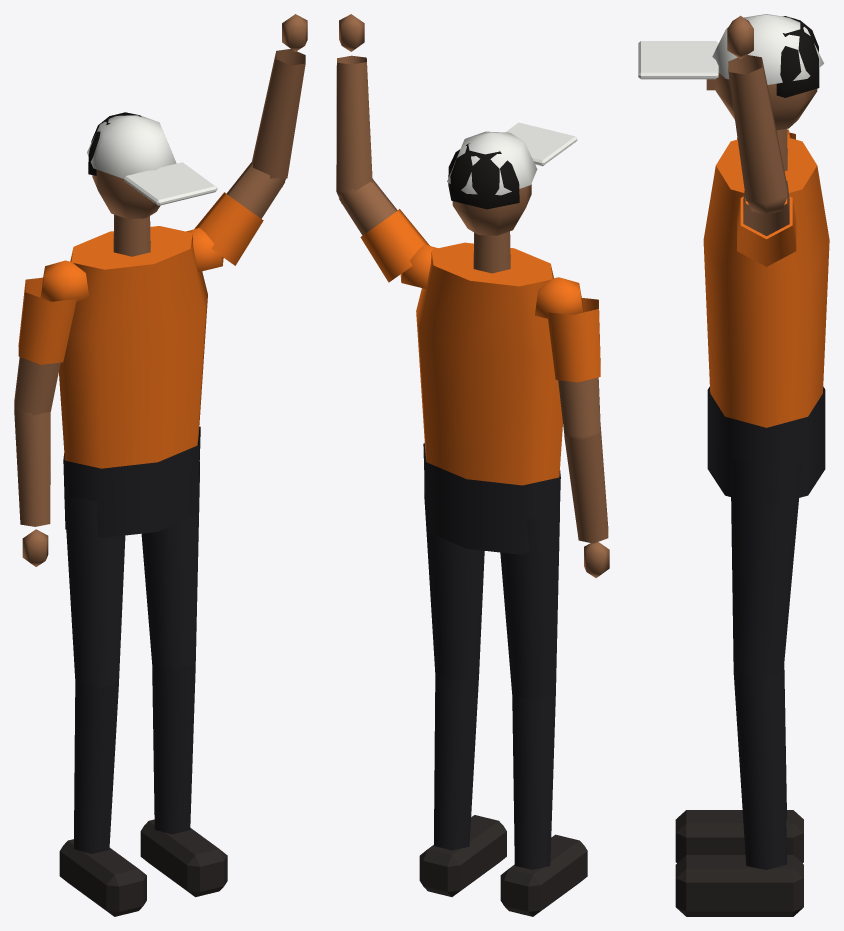
File: fan_g.dae
3 renders of one model, left to right at view 1: azimuth 30°, elevation 25°; view 2: azimuth 150°, elevation 25°; view 3: azimuth 270°, elevation 25°, orthographic. The views are drawn at different scales.
Visible parts, largest first — view 1: marker; view 2: marker; view 3: marker.
Boxes of the visible parts, <box> form: marker: <box>14,14,307,916</box>; marker: <box>336,14,609,916</box>; marker: <box>638,14,829,916</box>.
Bounding box in the file's own units: 0.6888 × 0.358 × 1.98.
Materials: 1 (1 with a texture image).
